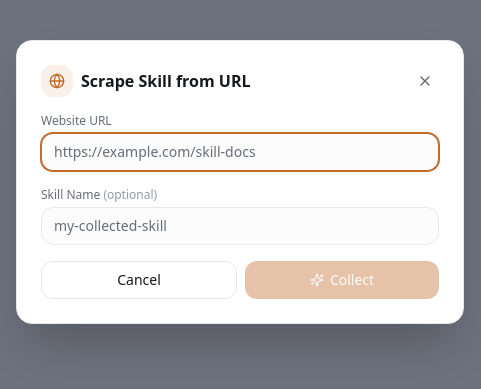
Test case: ScrapeUrlDialog — full interaction flow › displays an error message when collection fails
In the field with placeholder "https://example.com/skill-docs": (240, 152) [41, 133, 439, 171], type "https://example.com/fail"
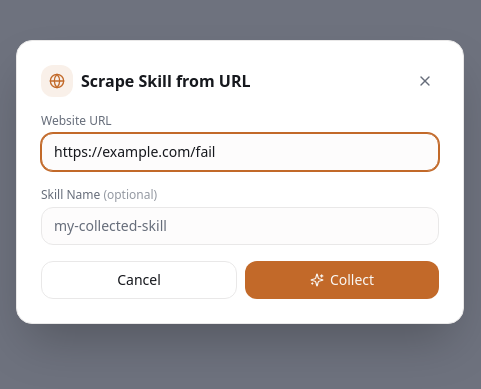
Click the button "Collect": (342, 280) [245, 261, 439, 299]
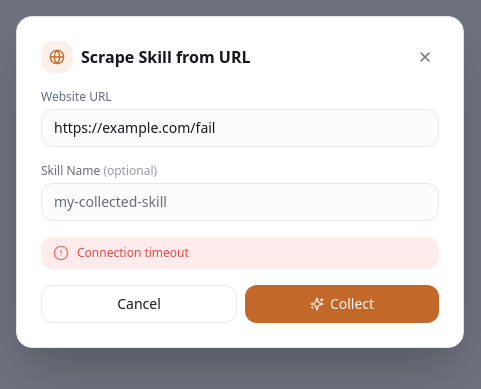
Now the text "Connection timeout" is shown, box [77, 245, 189, 261]
